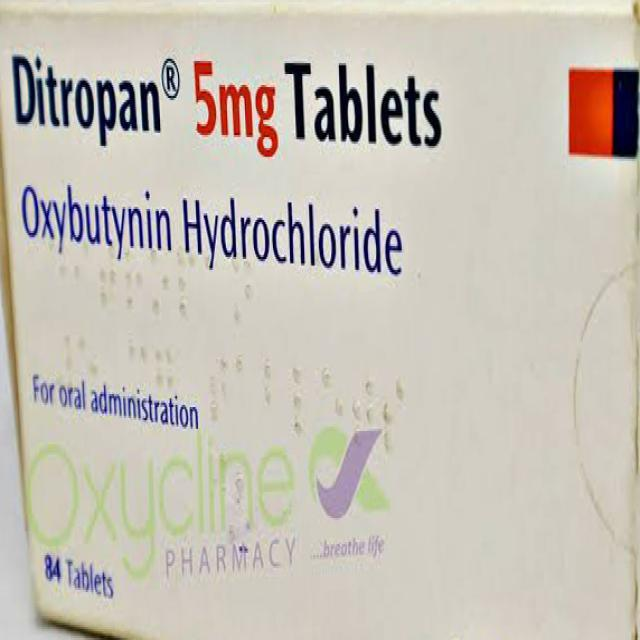drug-name: (9, 56, 162, 147)
